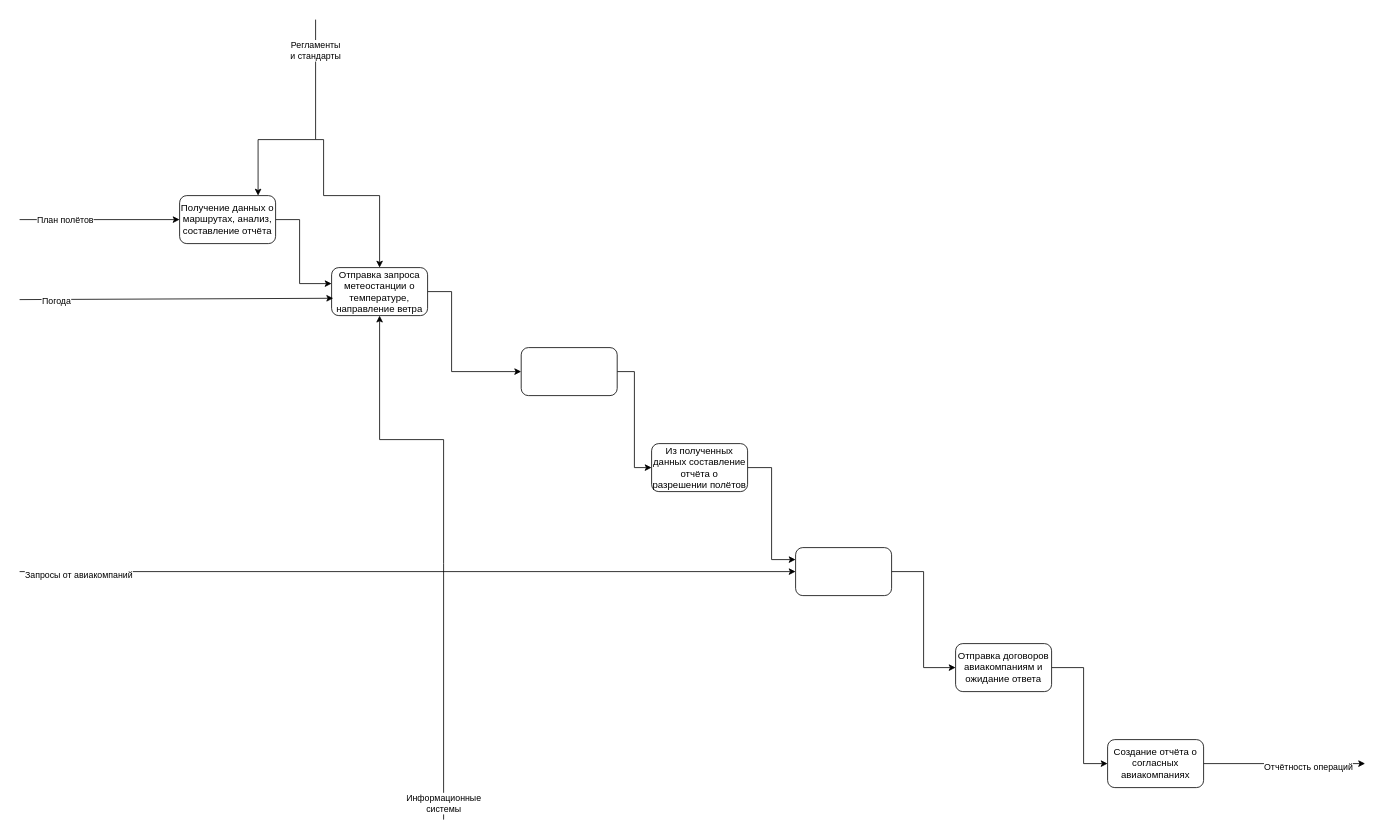
This 1386x840 diagram has some shape labels left out. Each missing label, with the centre of its shape:
Получение данных из метеостанции и составление отчёта: the point at 568,371
Получение запросов от авиакомпаний составление отчёта: the point at 843,571
